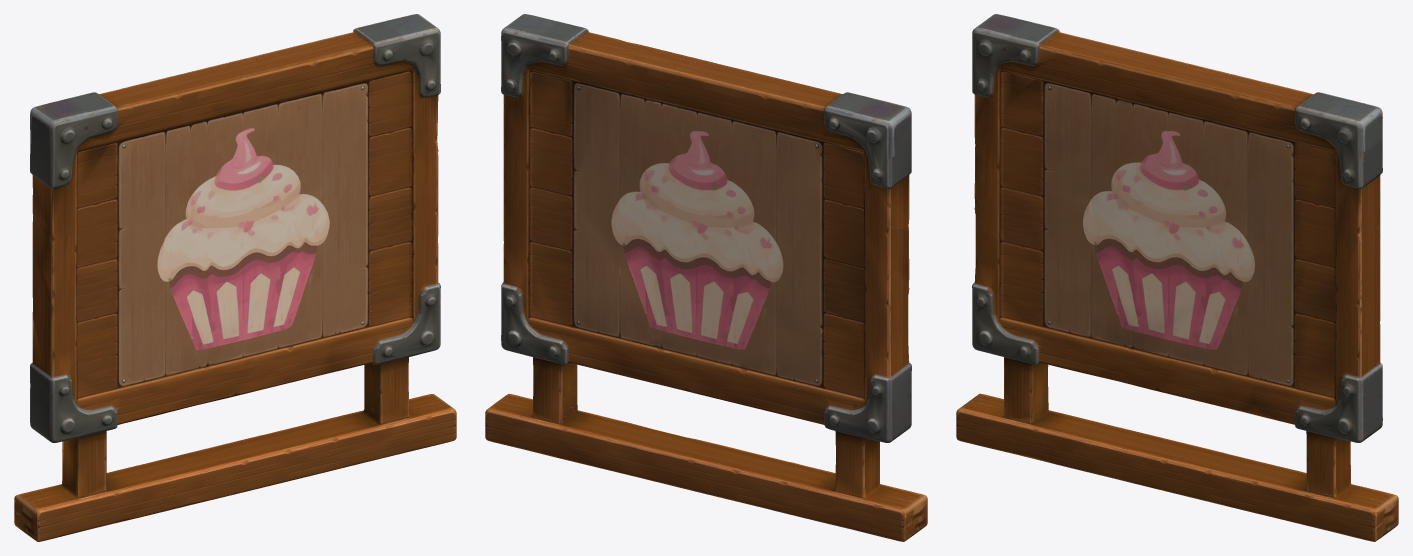
File: target.glb
3 renders of one model, left to right at view 1: azimuth 30°, elevation 25°; view 2: azimuth 150°, elevation 25°; view 3: azimuth 330°, elevation 25°, orthographic.
Parts seen in each view (by area): view 1: Mesh1.0; view 2: Mesh1.0; view 3: Mesh1.0.
Boxes of the visible parts, <box> form: Mesh1.0: <box>14,14,456,541</box>; Mesh1.0: <box>485,14,927,541</box>; Mesh1.0: <box>956,14,1398,541</box>.
Size of the model in its own units: 1.9 by 1.8 by 0.2176.
Materials: 1 (1 with a texture image).
